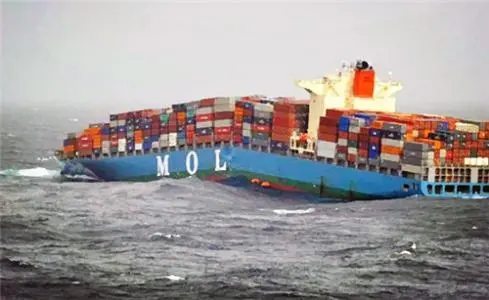Cargoship: (47, 55, 489, 200)
